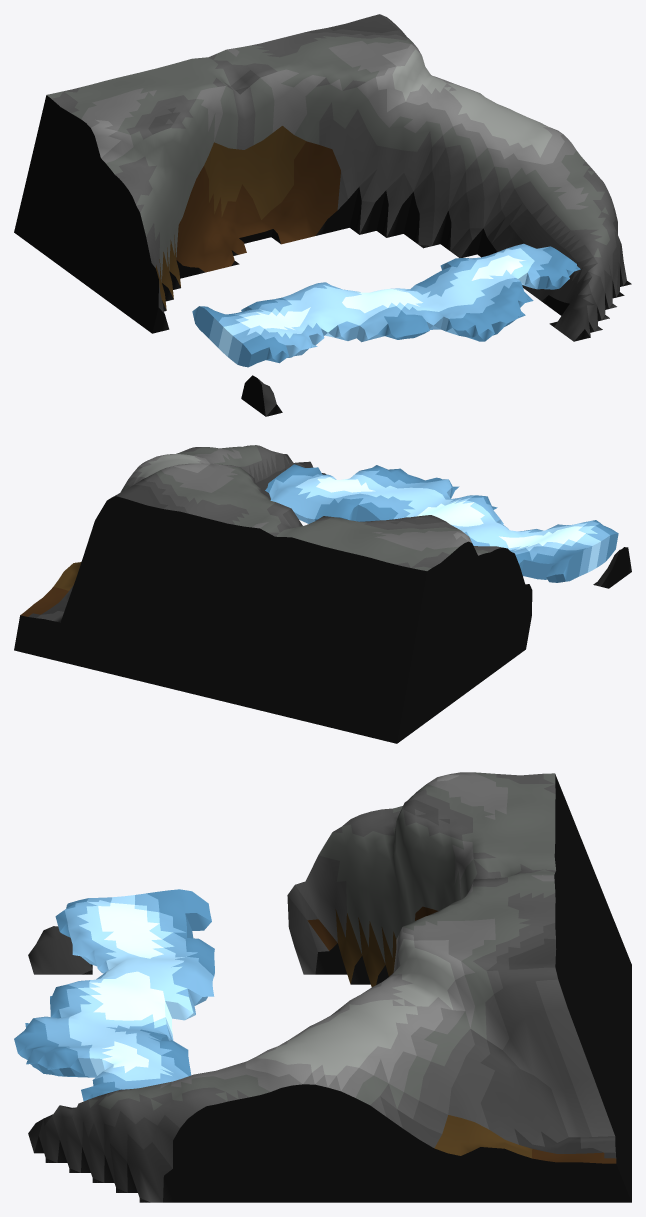
The model's file is rock_machine_bc_7.glb.
3 renders of one model, top to bottom at view 1: azimuth 30°, elevation 25°; view 2: azimuth 150°, elevation 25°; view 3: azimuth 270°, elevation 25°, orthographic. The views are drawn at different scales.
Visible parts, largest first — view 1: rock_machine_bc_7; view 2: rock_machine_bc_7; view 3: rock_machine_bc_7.
Part boxes in pixels (box(x1,y1,x2,y2)): rock_machine_bc_7: box(14, 14, 631, 416); rock_machine_bc_7: box(14, 445, 631, 743); rock_machine_bc_7: box(14, 772, 631, 1202).
Size of the model in its own units: 24 by 9.21 by 26.35.
